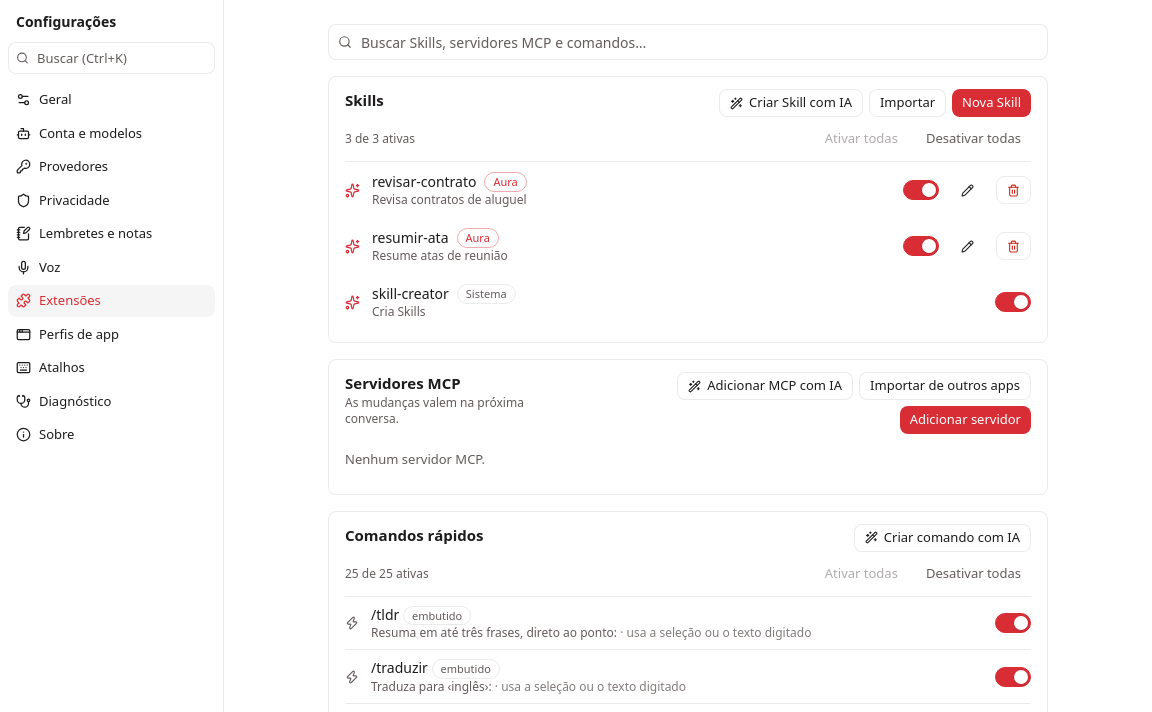
Scenario: Extensions (017) › 'Create with AI' sends the request to the agent in Task mode (AC-005)
Expected: the list item "resumir-ata" is shown, [345, 218, 1031, 274]
Step 1. Click the button "Criar Skill com IA" → (791, 103), box [719, 89, 863, 117]
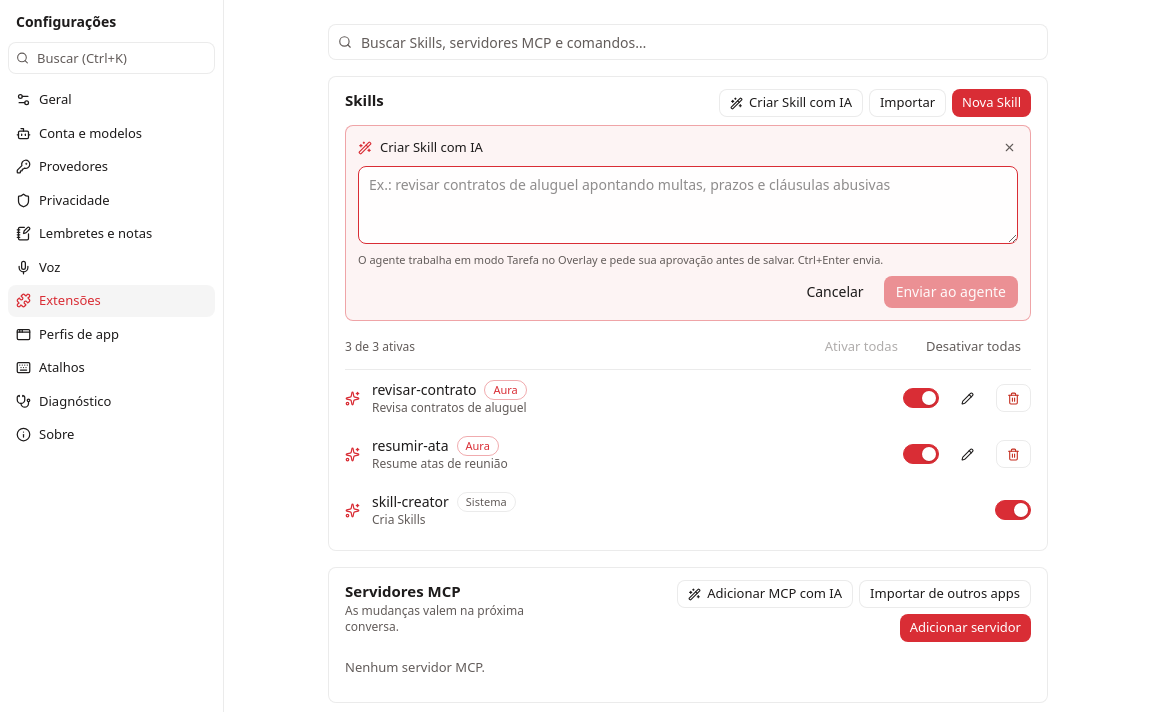
Step 2. Type "revisa contratos de aluguel" into the text box named "Descreva o que você quer" → (688, 204), box [358, 166, 1018, 244]
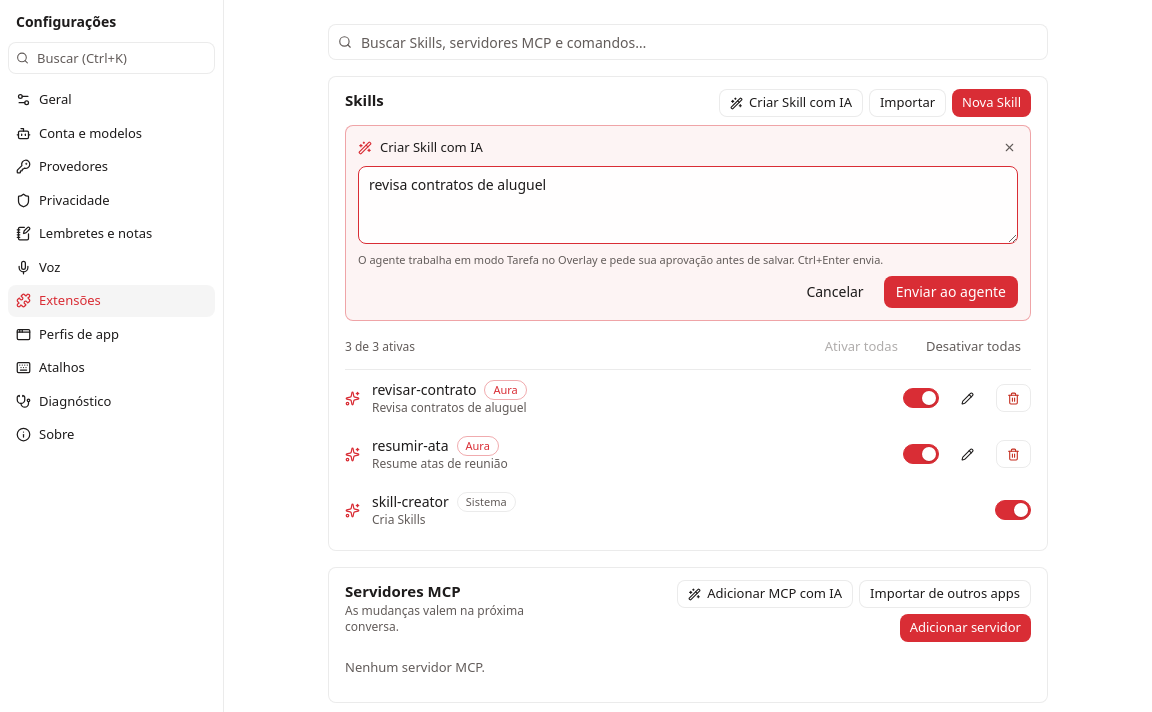
Step 3. Click the button "Enviar ao agente" → (951, 292), box [884, 276, 1018, 308]
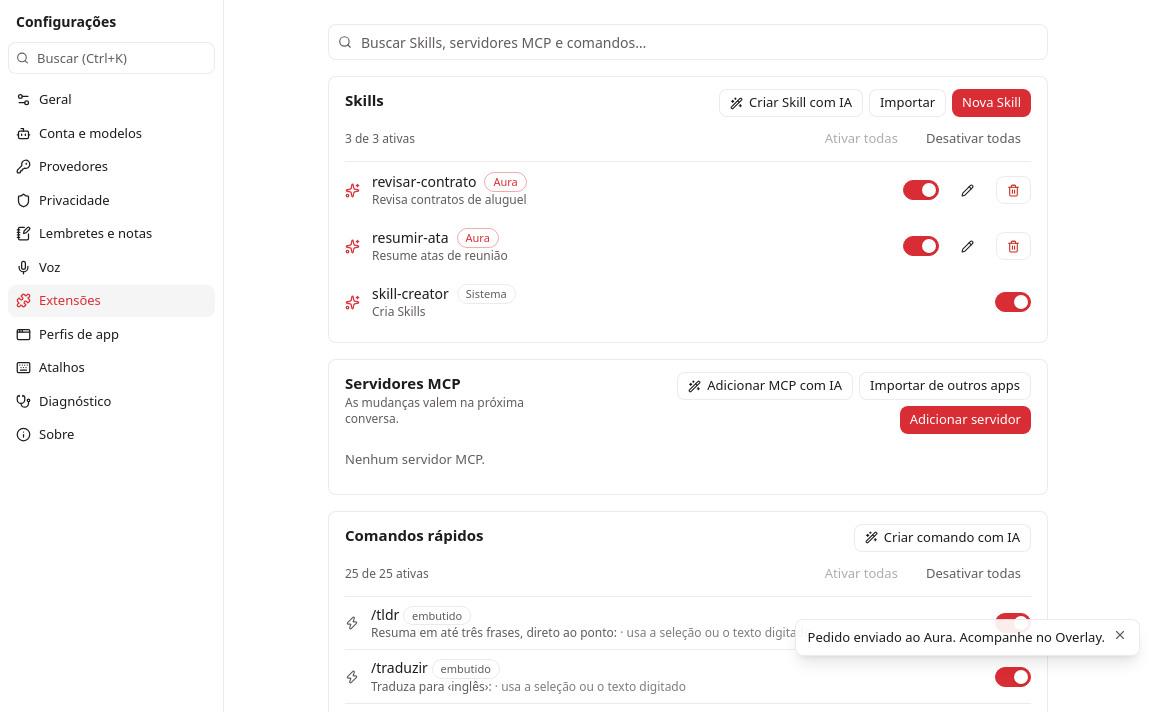
Expected: the text "Pedido enviado ao Aura. Acompanhe no Overlay." is shown, [808, 628, 1105, 647]
